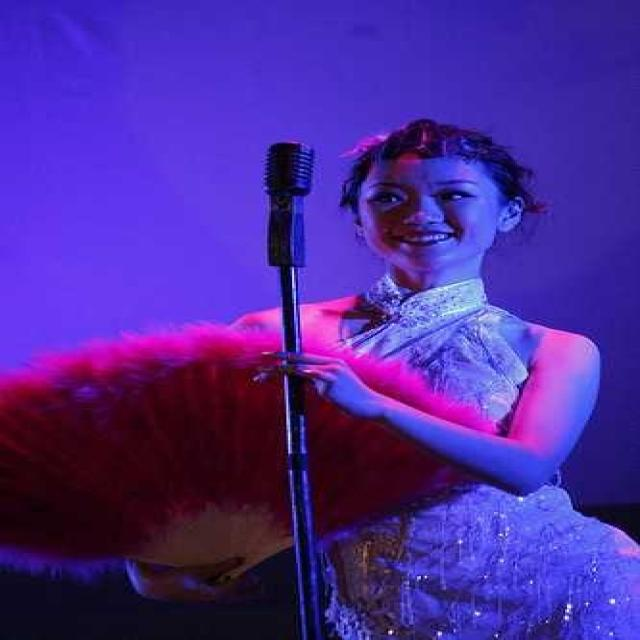microphone: (256, 133, 334, 276)
